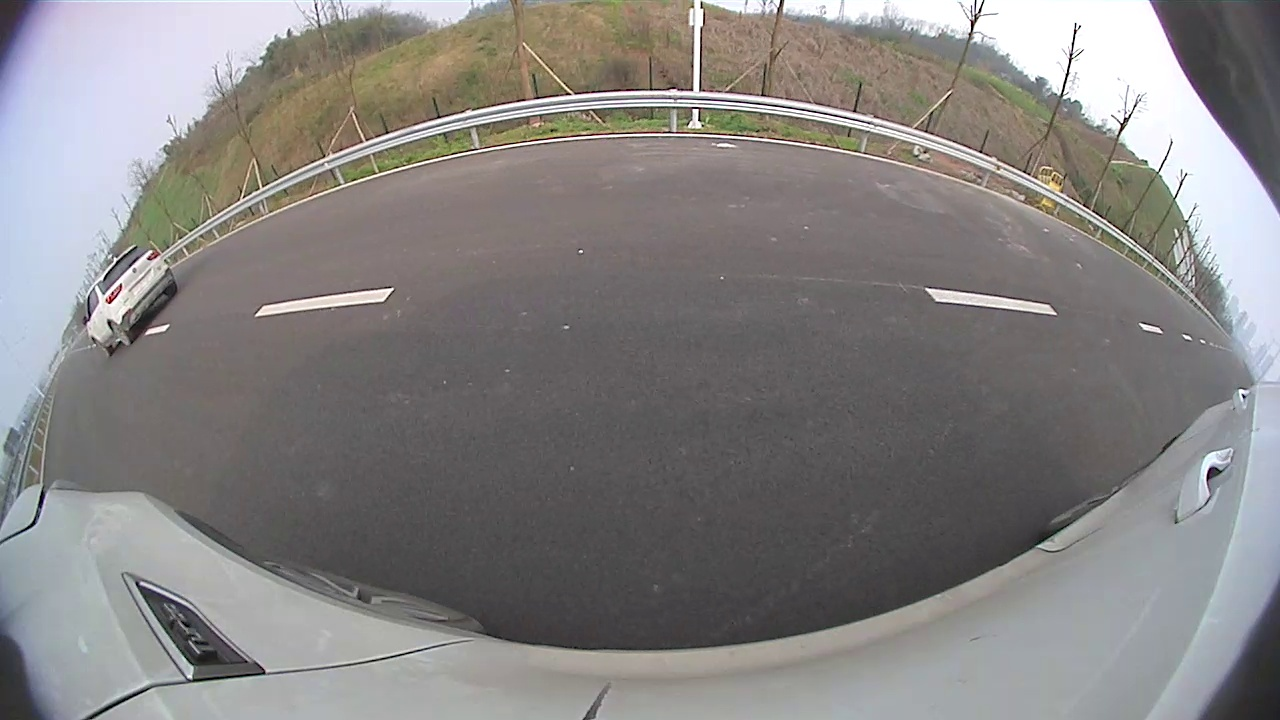car: (86, 166, 230, 295)
front: (123, 249, 159, 289)
